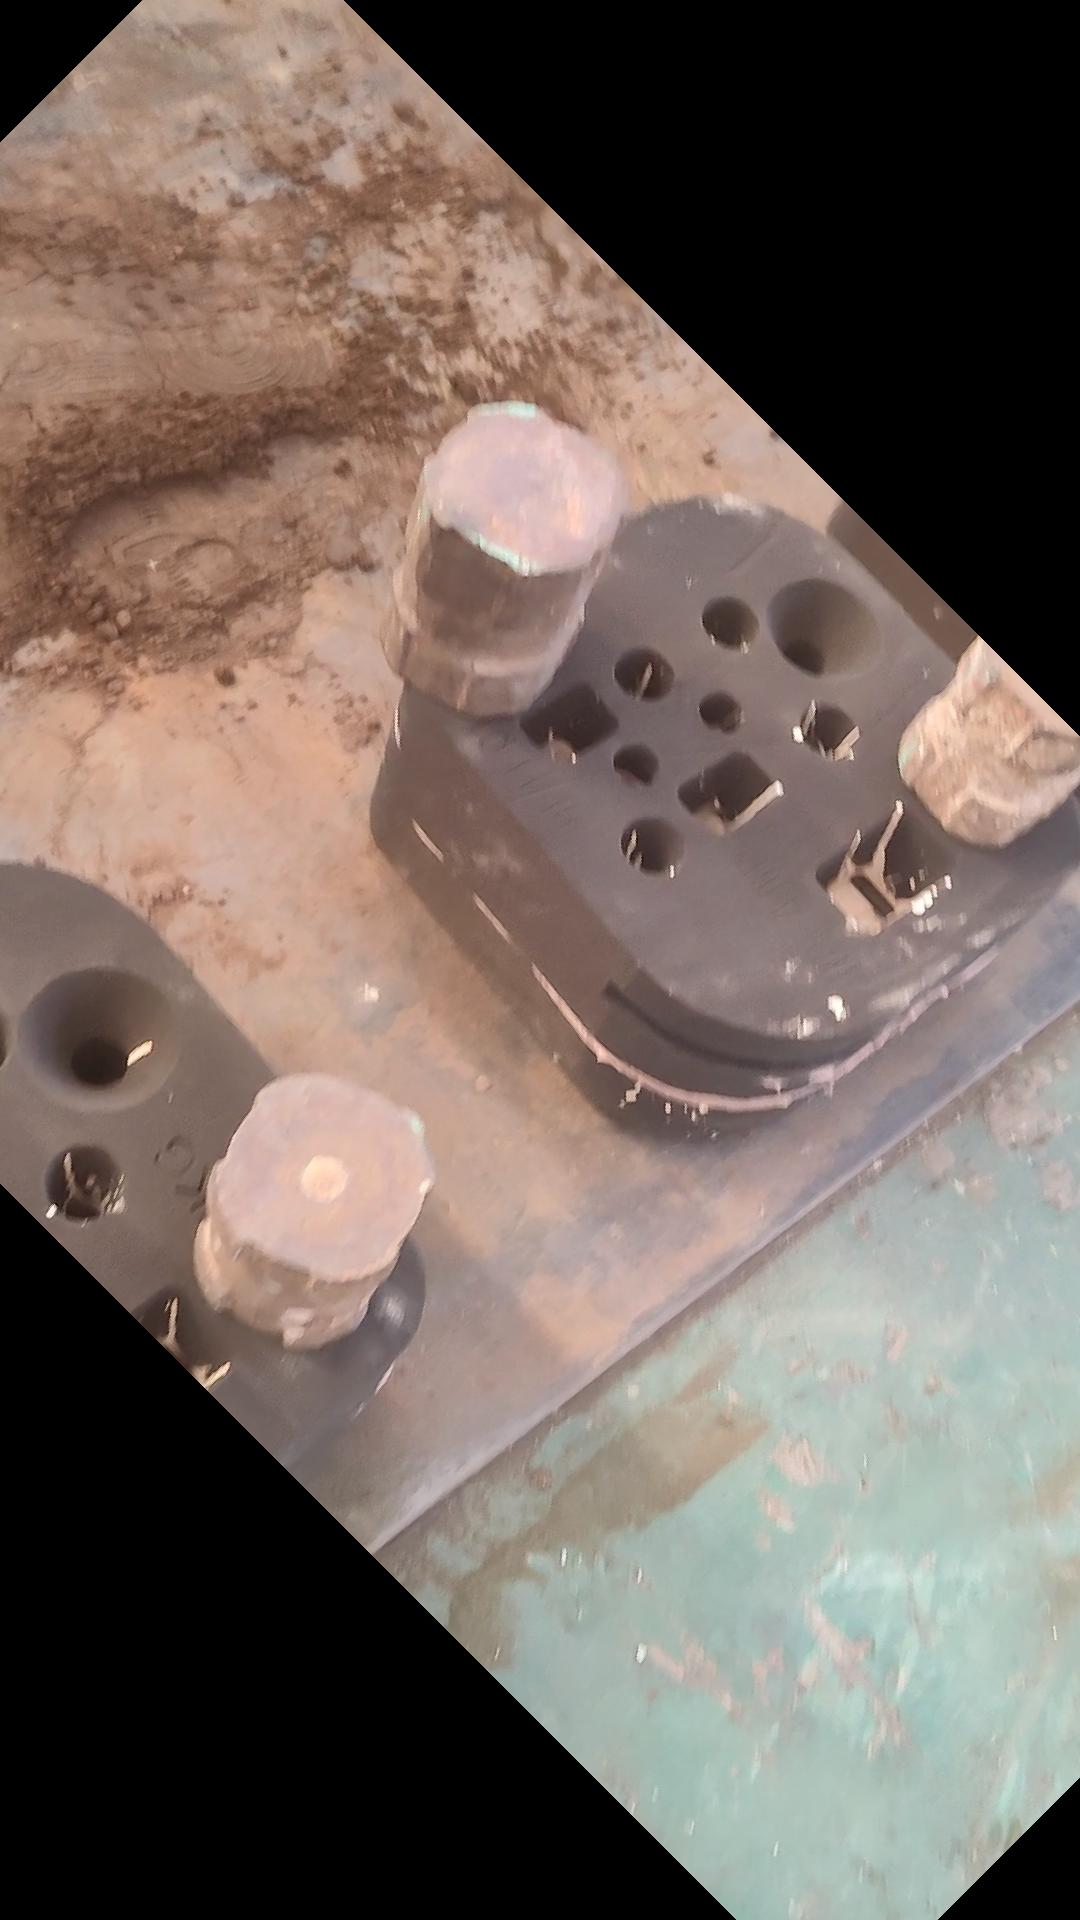pouring hole: (15, 965, 178, 1109), (767, 579, 882, 679)
